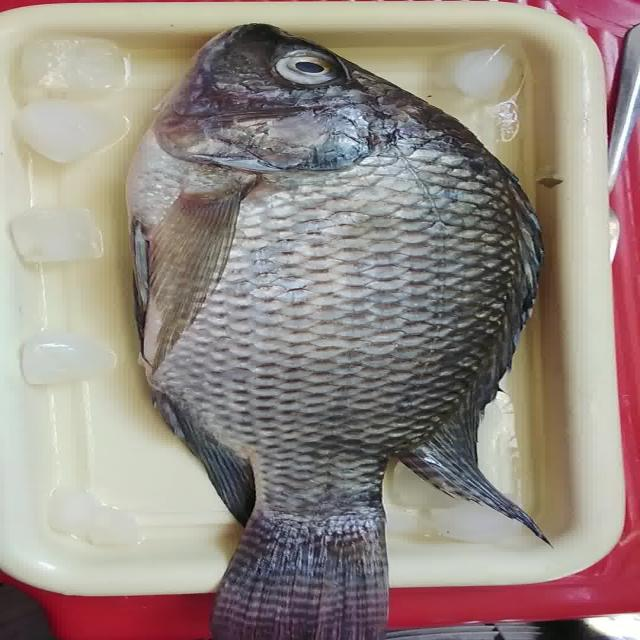Fresh: (148, 146, 472, 622), (257, 39, 365, 100)
